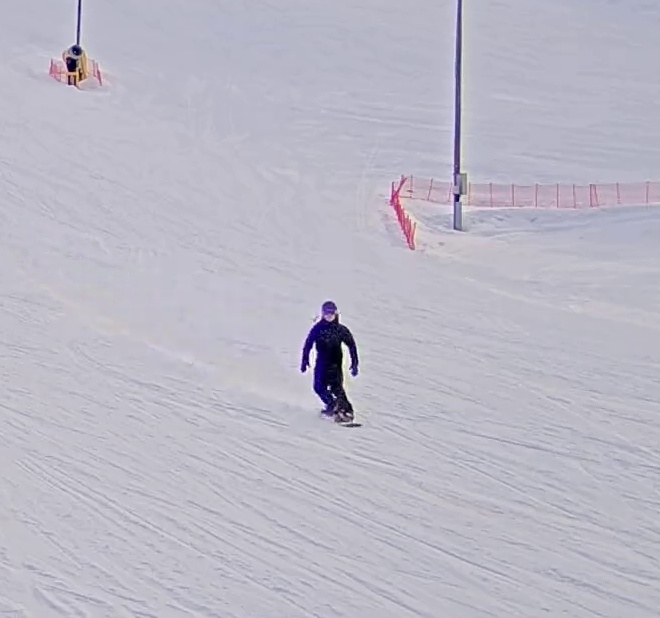snowboarder: (294, 296, 365, 432)
